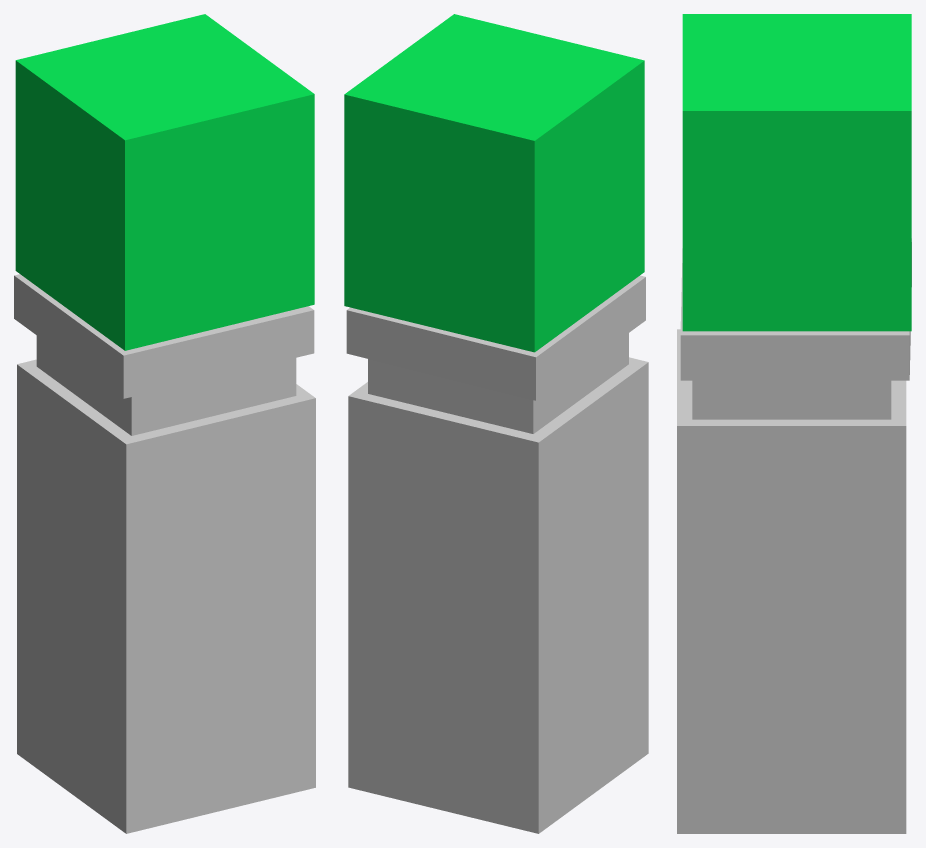
The model's file is zhangui.FBX.
3 views of the same model, side by side, from view 1: azimuth 30°, elevation 25°; view 2: azimuth 150°, elevation 25°; view 3: azimuth 270°, elevation 25° (orthographic). The views are drawn at different scales.
Visible parts, largest first — view 1: Box001, 对象001; view 2: Box001, 对象001; view 3: Box001, 对象001.
Part boxes in pixels (x1=…): Box001: x1=14, y1=274, x2=315, y2=833; 对象001: x1=15, y1=14, x2=314, y2=350; Box001: x1=346, y1=275, x2=648, y2=833; 对象001: x1=344, y1=14, x2=644, y2=352; Box001: x1=677, y1=238, x2=911, y2=833; 对象001: x1=682, y1=14, x2=911, y2=331.
Size of the model in its own units: 19.83 by 68.6 by 20.17.
